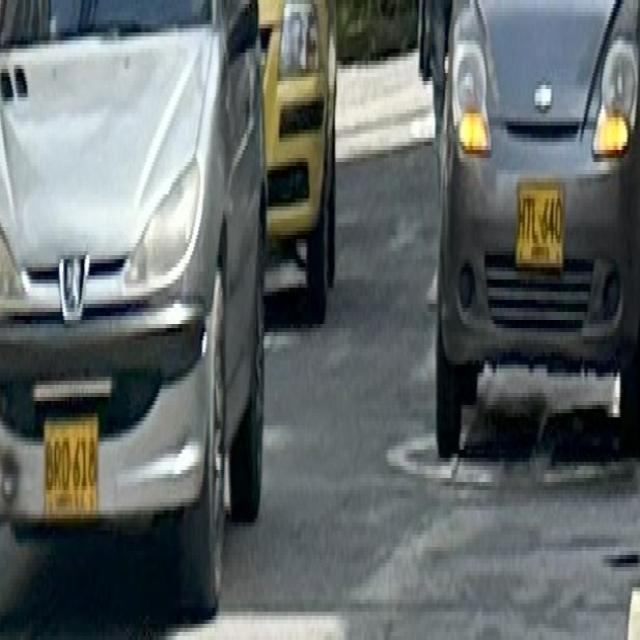number plate: (43, 410, 98, 528), (516, 182, 561, 259)
